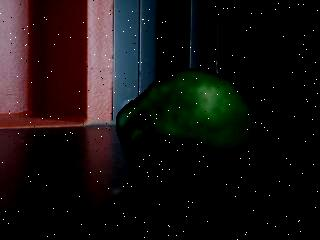Lime: (112, 67, 262, 195)
